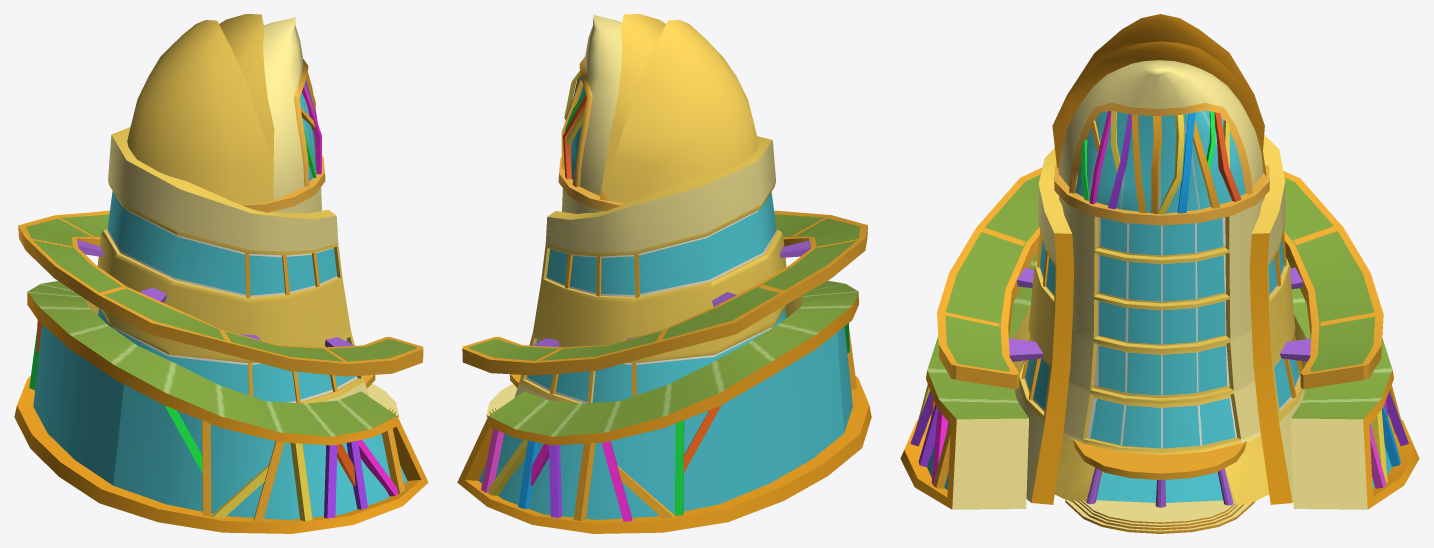
File: Tx_Building_Con_Yellow_03.fbx
3 views of the same model, side by side, from view 1: azimuth 30°, elevation 25°; view 2: azimuth 150°, elevation 25°; view 3: azimuth 270°, elevation 25° (orthographic). The views are drawn at different scales.
Parts seen in each view (by area): view 1: Bottom_Side_Wall, Middle_Side, Top_Building_Cover, Middle_Side_Floor, Top_Building, Top_Building_Cover1, Middle_Building, Bottom_Side_Pillar5, Bottom_Side_Pillar8, Bottom_Side_Pillar4, Bottom_Side_Pillar6, Bottom_Side_Pillar1 (+5 smaller); view 2: Bottom_Side_Wall, Middle_Side, Top_Building_Cover, Middle_Side_Floor, Top_Building, Top_Building_Cover1, Middle_Building, Bottom_Side_Pillar14, Bottom_Side_Pillar15, Bottom_Side_Pillar11, Bottom_Side_Pillar13, Bottom_Side_Pillar19 (+5 smaller); view 3: Middle_Building, Middle_Side_Floor, Bottom_Side_Wall, Middle_Side, Top_Building, Top_Building_Cover1, Top_Building_Cover, Bottom_Middle_Roof, polySurface44, polySurface47, Top_Middle_Pillar5, Top_Middle_Pillar6 (+9 smaller).
Boxes of the visible parts, x1,y1,x2,y2 form: Bottom_Side_Wall: (14, 281, 428, 533); Middle_Side: (97, 127, 369, 403); Top_Building_Cover: (127, 20, 272, 204); Middle_Side_Floor: (18, 210, 423, 376); Top_Building: (263, 17, 316, 198); Top_Building_Cover1: (219, 14, 274, 204); Middle_Building: (242, 156, 325, 213); Bottom_Side_Pillar5: (290, 443, 312, 521); Bottom_Side_Pillar8: (202, 420, 211, 516); Bottom_Side_Pillar4: (324, 445, 337, 518); Bottom_Side_Pillar6: (253, 441, 284, 521); Bottom_Side_Pillar1: (381, 428, 404, 493); Bottom_Side_Wall: (457, 280, 871, 533); Middle_Side: (514, 136, 786, 403); Top_Building_Cover: (610, 20, 758, 197); Middle_Side_Floor: (462, 210, 867, 375); Top_Building: (570, 15, 622, 195); Top_Building_Cover1: (599, 14, 665, 203); Middle_Building: (558, 157, 624, 213); Bottom_Side_Pillar14: (573, 443, 595, 520); Bottom_Side_Pillar15: (548, 445, 561, 517); Bottom_Side_Pillar11: (674, 420, 684, 515); Bottom_Side_Pillar13: (601, 441, 632, 521); Bottom_Side_Pillar19: (481, 428, 504, 492); Middle_Building: (1054, 165, 1269, 506); Middle_Side_Floor: (937, 167, 1383, 389); Bottom_Side_Wall: (900, 253, 1419, 509); Middle_Side: (1015, 135, 1305, 504); Top_Building: (1058, 60, 1263, 213); Top_Building_Cover1: (1058, 41, 1266, 176); Top_Building_Cover: (1052, 14, 1264, 168); Bottom_Middle_Roof: (1073, 439, 1246, 479); polySurface44: (1080, 499, 1235, 523); polySurface47: (1065, 500, 1255, 533); Top_Middle_Pillar5: (1157, 114, 1184, 214); Top_Middle_Pillar6: (1151, 116, 1161, 213).
Size of the model in its own units: 66.3 by 80.36 by 85.79.
